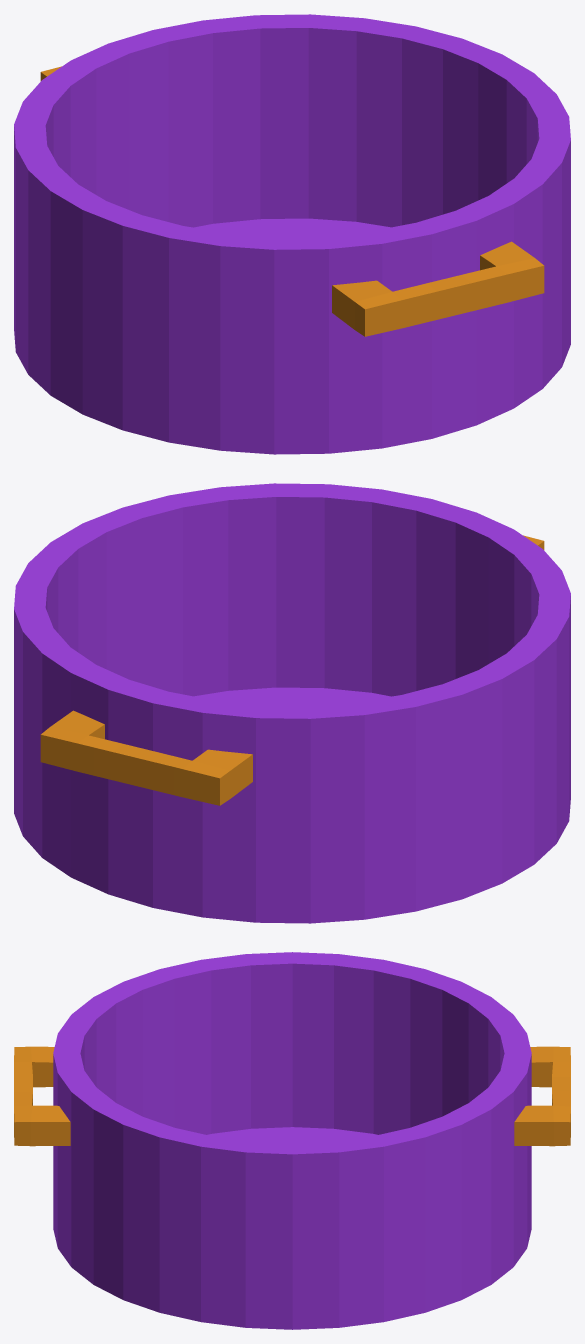
The model's file is Pot.fbx.
The picture shows the model from 3 angles, top to bottom: view 1: azimuth 30°, elevation 25°; view 2: azimuth 150°, elevation 25°; view 3: azimuth 270°, elevation 25°; orthographic projection. The views are drawn at different scales.
Parts seen in each view (by area): view 1: Pot, Cubourd Handle 1.001; view 2: Pot, Cubourd Handle 1.001; view 3: Pot, Cubourd Handle 1.001.
Part boxes in pixels (<box>): Pot: <box>14,14,570,454</box>; Cubourd Handle 1.001: <box>40,66,544,336</box>; Pot: <box>14,483,570,923</box>; Cubourd Handle 1.001: <box>40,535,544,805</box>; Pot: <box>53,952,531,1329</box>; Cubourd Handle 1.001: <box>14,1046,570,1146</box>.
Bounding box in the file's own units: 22.19 × 8.98 × 25.83.
